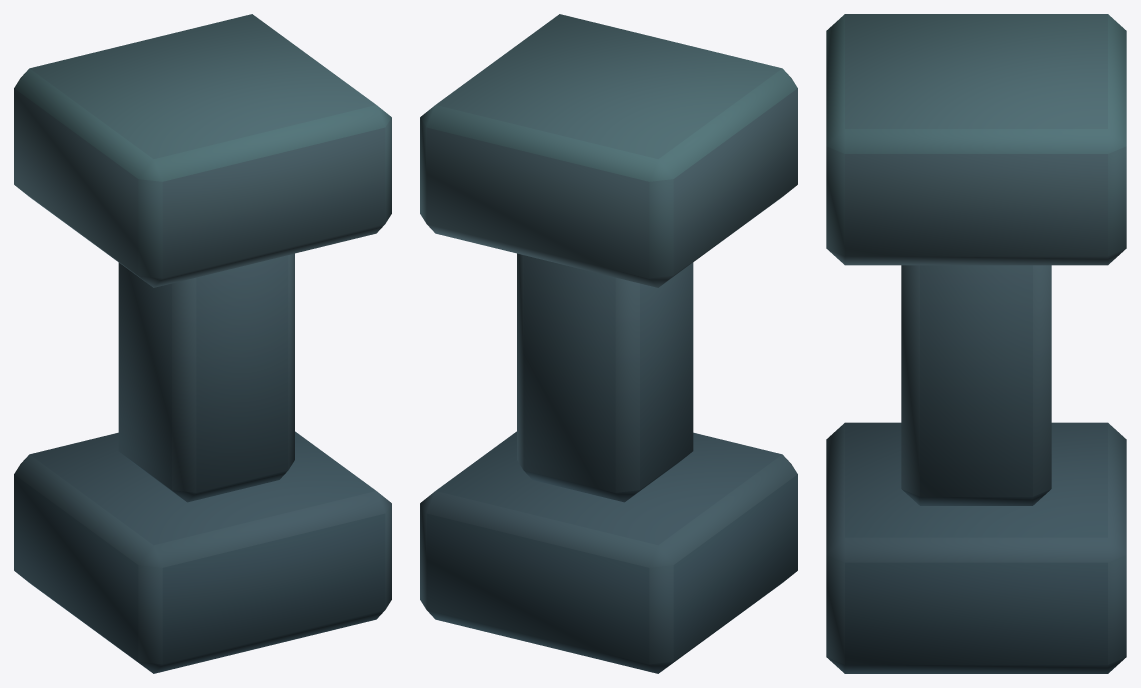
Rendered from fence_01_half_hue_2.fbx.
The picture shows the model from 3 angles, left to right: view 1: azimuth 30°, elevation 25°; view 2: azimuth 150°, elevation 25°; view 3: azimuth 270°, elevation 25°; orthographic projection. The views are drawn at different scales.
Visible parts, largest first — view 1: fence_01_half_hue_2; view 2: fence_01_half_hue_2; view 3: fence_01_half_hue_2.
Boxes of the visible parts, left/top/right/bottom form: fence_01_half_hue_2: left=14, top=14, right=391, bottom=673; fence_01_half_hue_2: left=420, top=14, right=797, bottom=673; fence_01_half_hue_2: left=826, top=14, right=1126, bottom=673.
Bounding box in the file's own units: 51.56 × 100 × 50.
